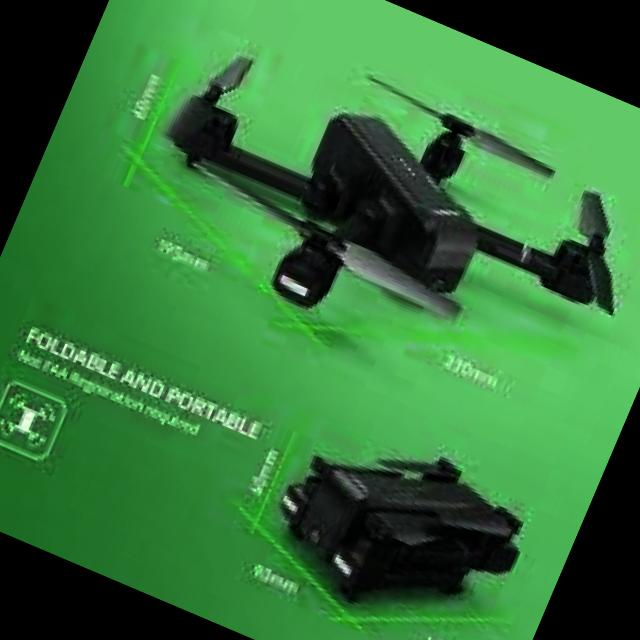drone: (68, 0, 640, 440)
